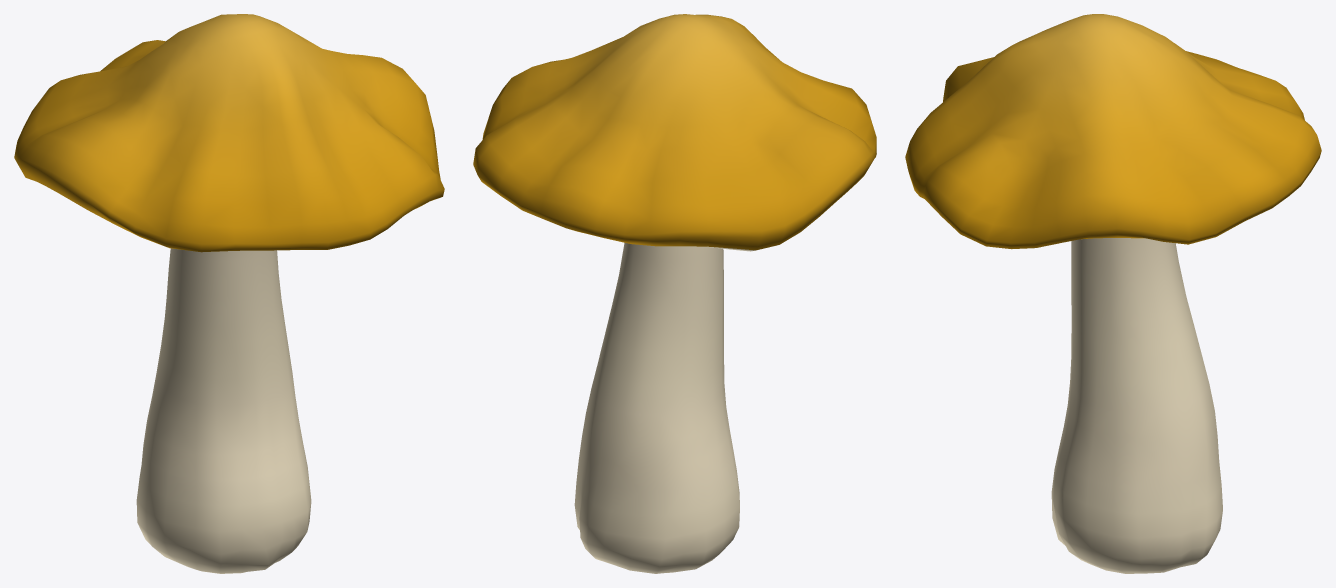
File: Mushroom_0001_0007.fbx
3 renders of one model, left to right at view 1: azimuth 30°, elevation 25°; view 2: azimuth 150°, elevation 25°; view 3: azimuth 270°, elevation 25°, orthographic. The views are drawn at different scales.
Visible parts, largest first — view 1: Mushroom_0001_0007; view 2: Mushroom_0001_0007; view 3: Mushroom_0001_0007.
Boxes of the visible parts, left/top/right/bottom form: Mushroom_0001_0007: left=14, top=14, right=444, bottom=573; Mushroom_0001_0007: left=473, top=14, right=876, bottom=573; Mushroom_0001_0007: left=905, top=14, right=1321, bottom=573.
Size of the model in its own units: 0.1679 by 0.2388 by 0.1669.
Materials: 1 (1 with a texture image).
